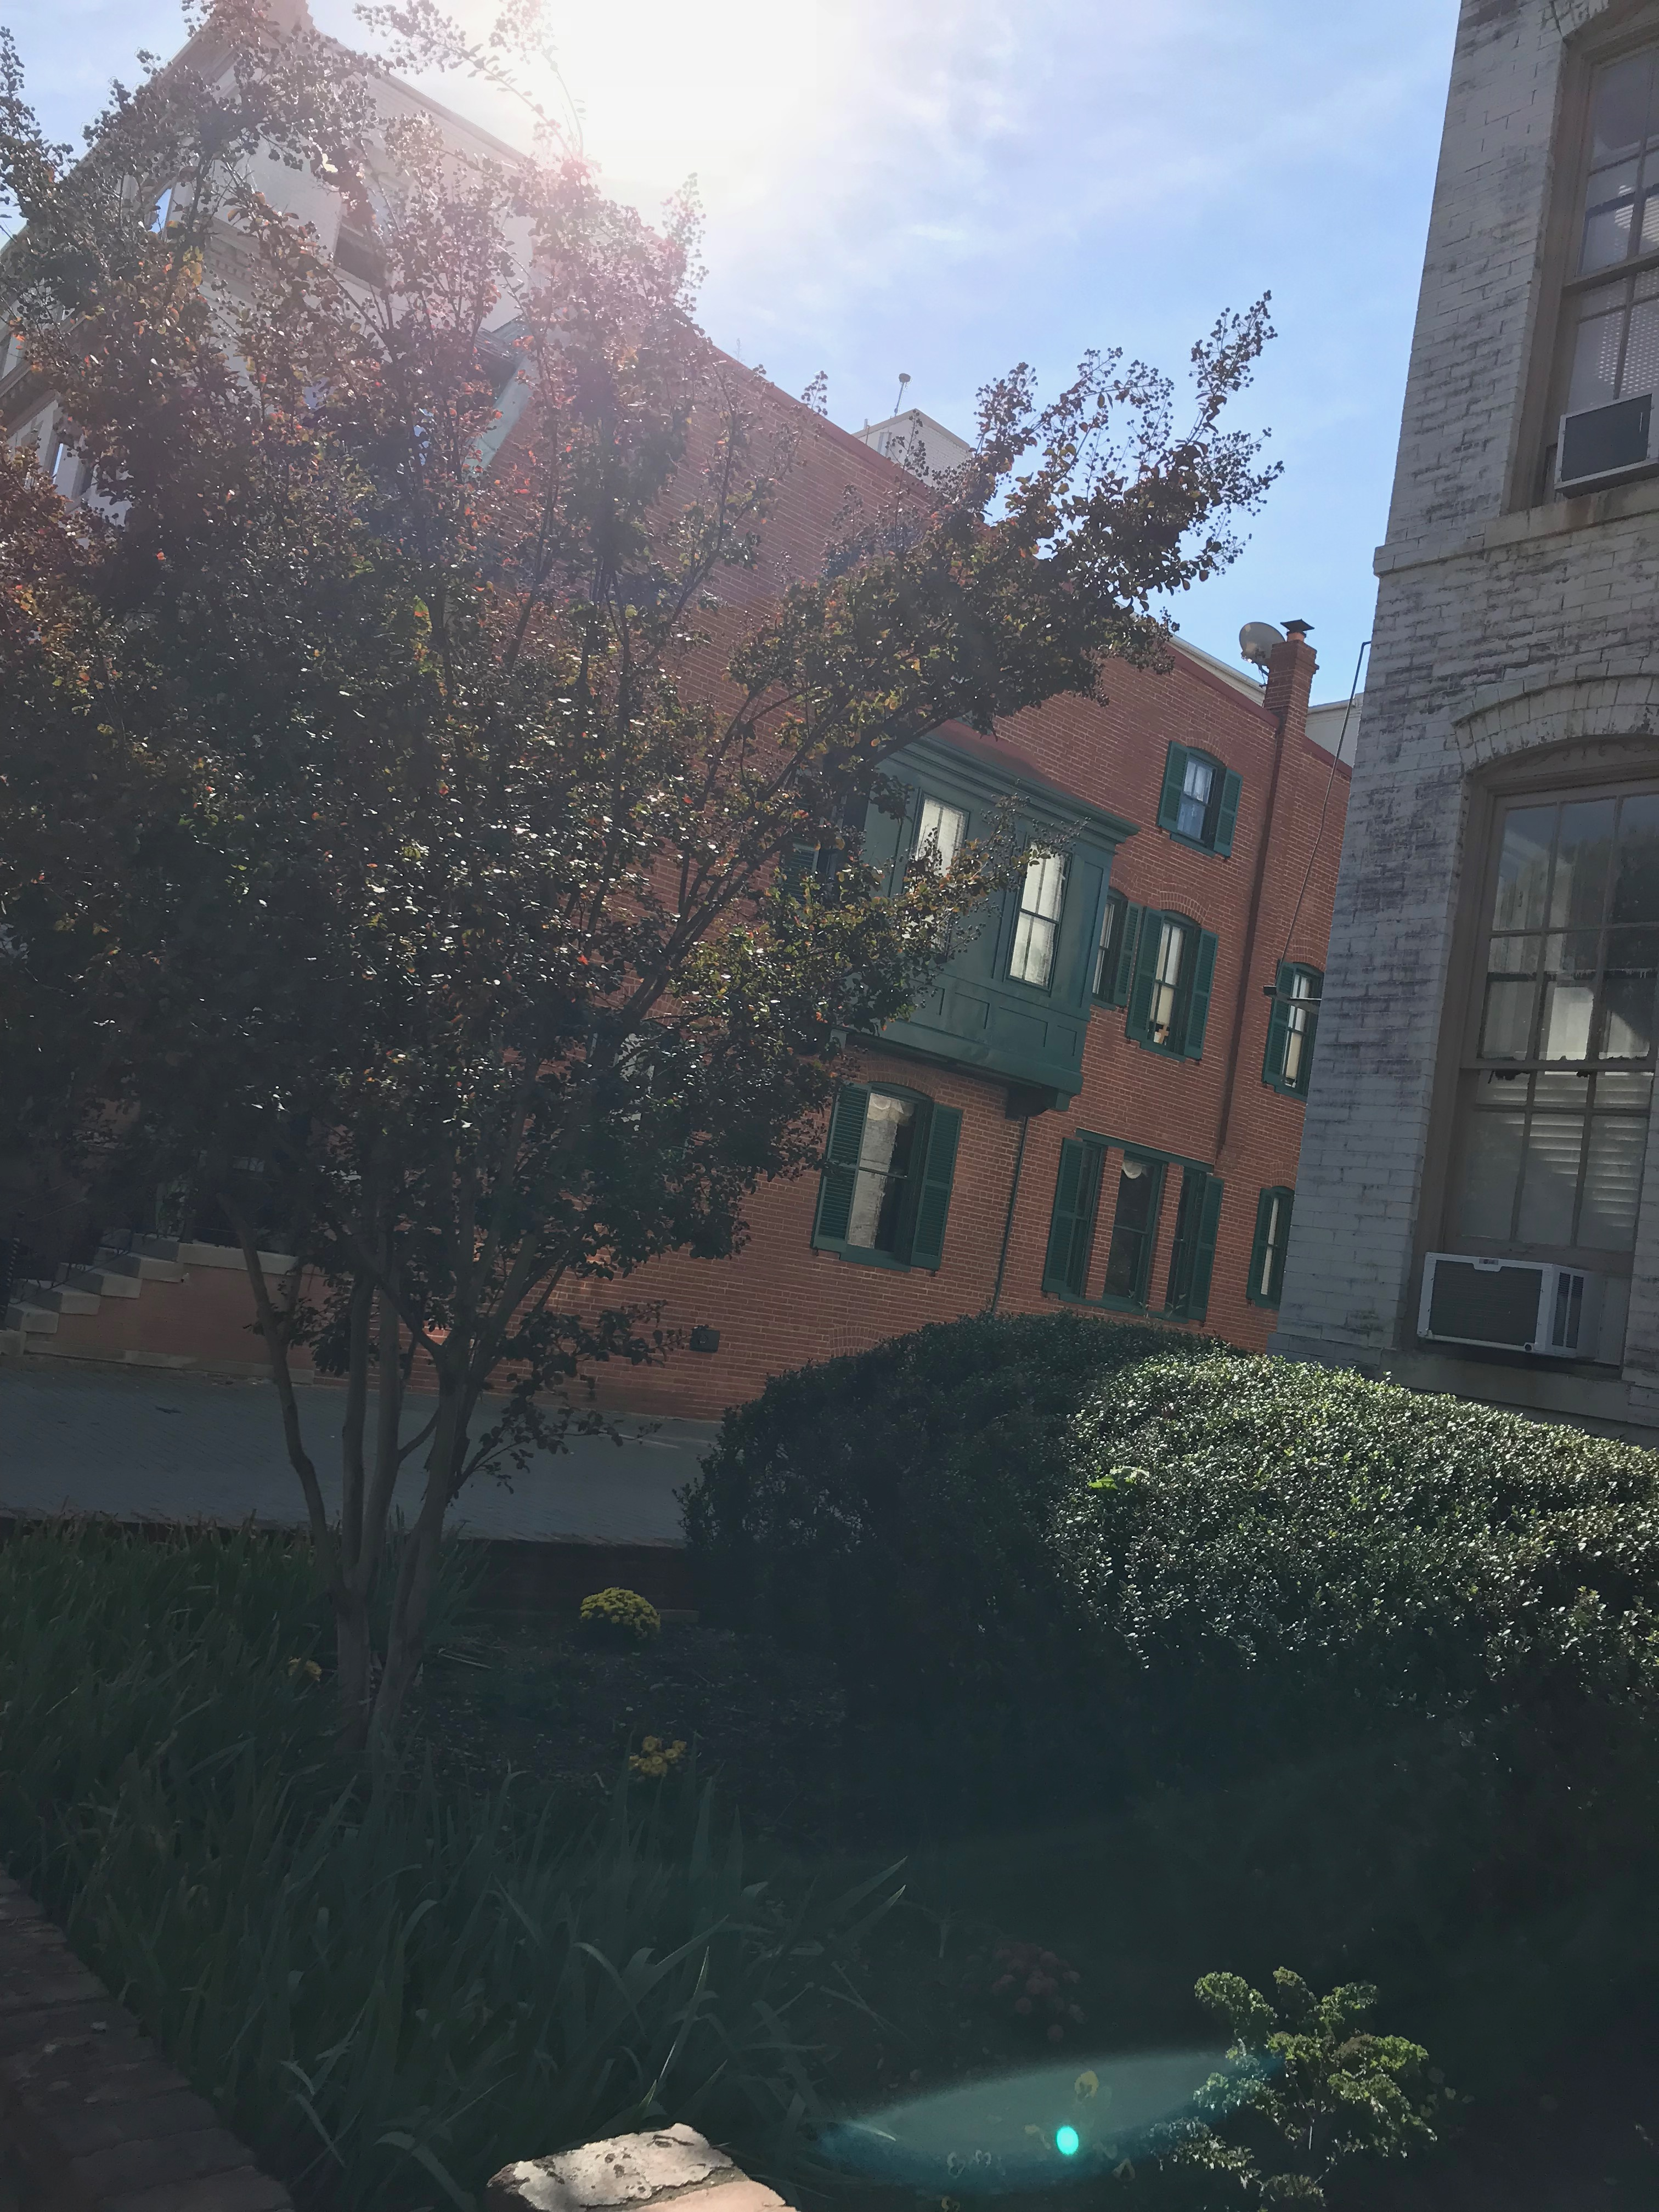flare: (1053, 2125, 1082, 2158)
